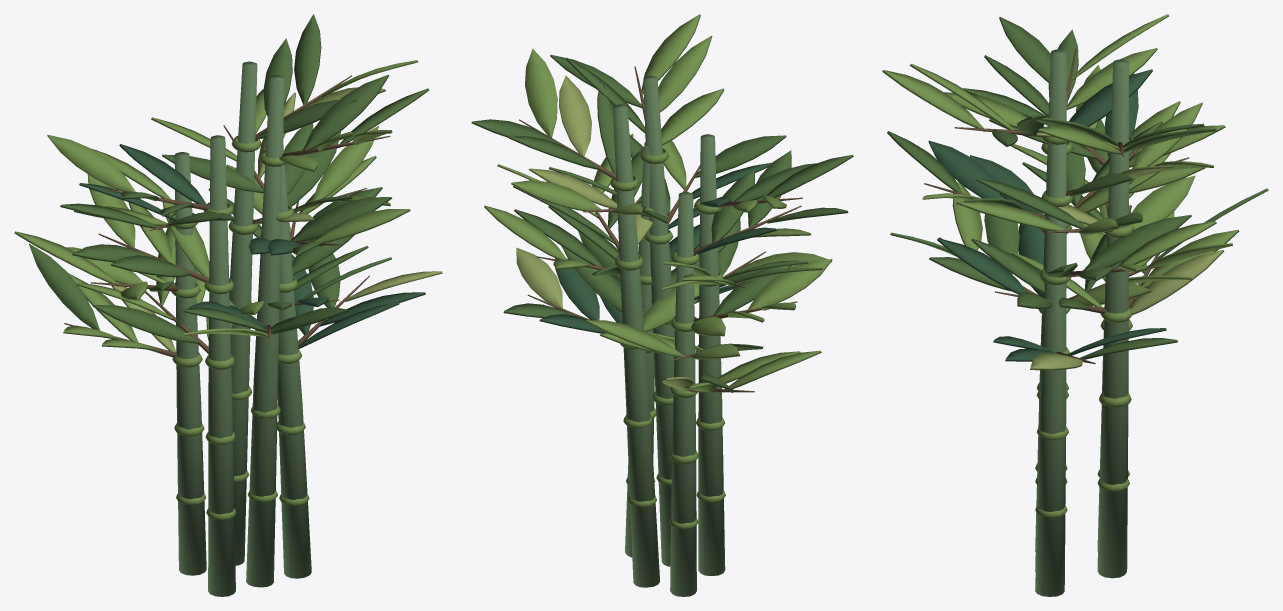
The model's file is bamboo_atelier.glb.
3 renders of one model, left to right at view 1: azimuth 30°, elevation 25°; view 2: azimuth 150°, elevation 25°; view 3: azimuth 270°, elevation 25°, orthographic. The views are drawn at different scales.
Parts seen in each view (by area): view 1: bamboo_atelier__TaggedPainted_Bamboo_Matte; view 2: bamboo_atelier__TaggedPainted_Bamboo_Matte; view 3: bamboo_atelier__TaggedPainted_Bamboo_Matte.
Boxes of the visible parts, x1,y1,x2,y2 form: bamboo_atelier__TaggedPainted_Bamboo_Matte: (14, 14, 442, 596); bamboo_atelier__TaggedPainted_Bamboo_Matte: (471, 14, 853, 596); bamboo_atelier__TaggedPainted_Bamboo_Matte: (882, 14, 1268, 596).
Bounding box in the file's own units: 2.01 × 2.63 × 1.74.
